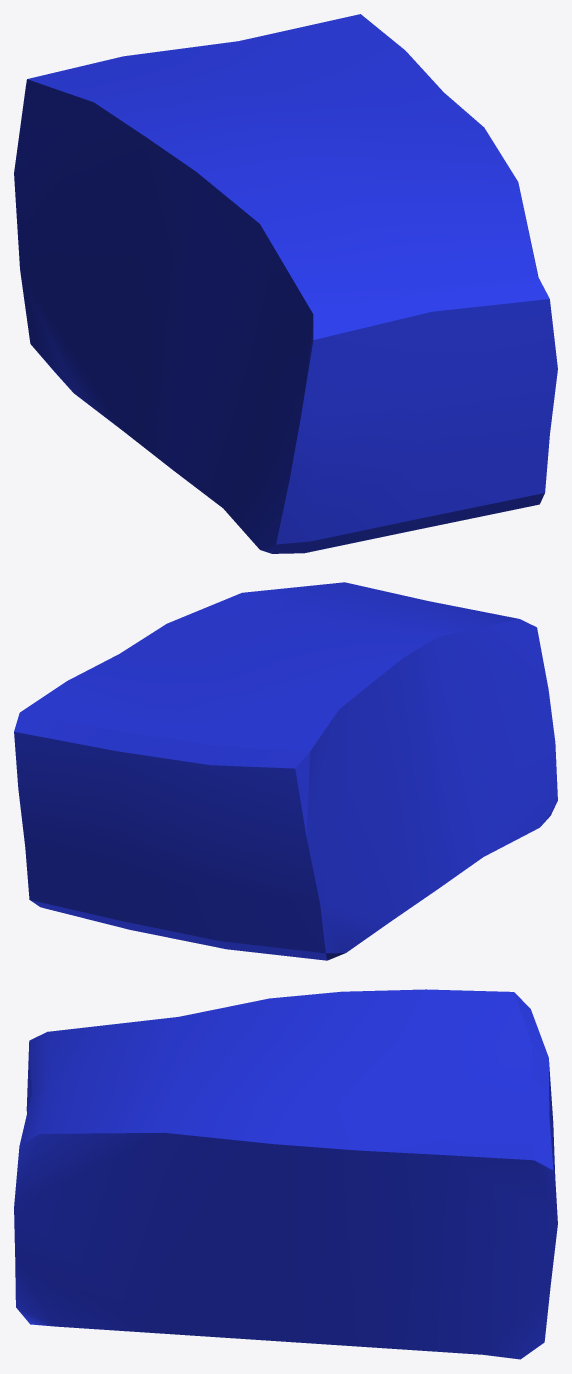
File: veal_n3.2_low.fbx
3 renders of one model, top to bottom at view 1: azimuth 30°, elevation 25°; view 2: azimuth 150°, elevation 25°; view 3: azimuth 270°, elevation 25°, orthographic. The views are drawn at different scales.
Visible parts, largest first — view 1: veal__n3.2_low; view 2: veal__n3.2_low; view 3: veal__n3.2_low.
Part boxes in pixels (box(x1,y1,x2,y2)): veal__n3.2_low: box(14, 14, 557, 553); veal__n3.2_low: box(14, 582, 557, 960); veal__n3.2_low: box(14, 989, 557, 1359).
Bounding box in the file's own units: 8.4 × 6.32 × 12.37.
